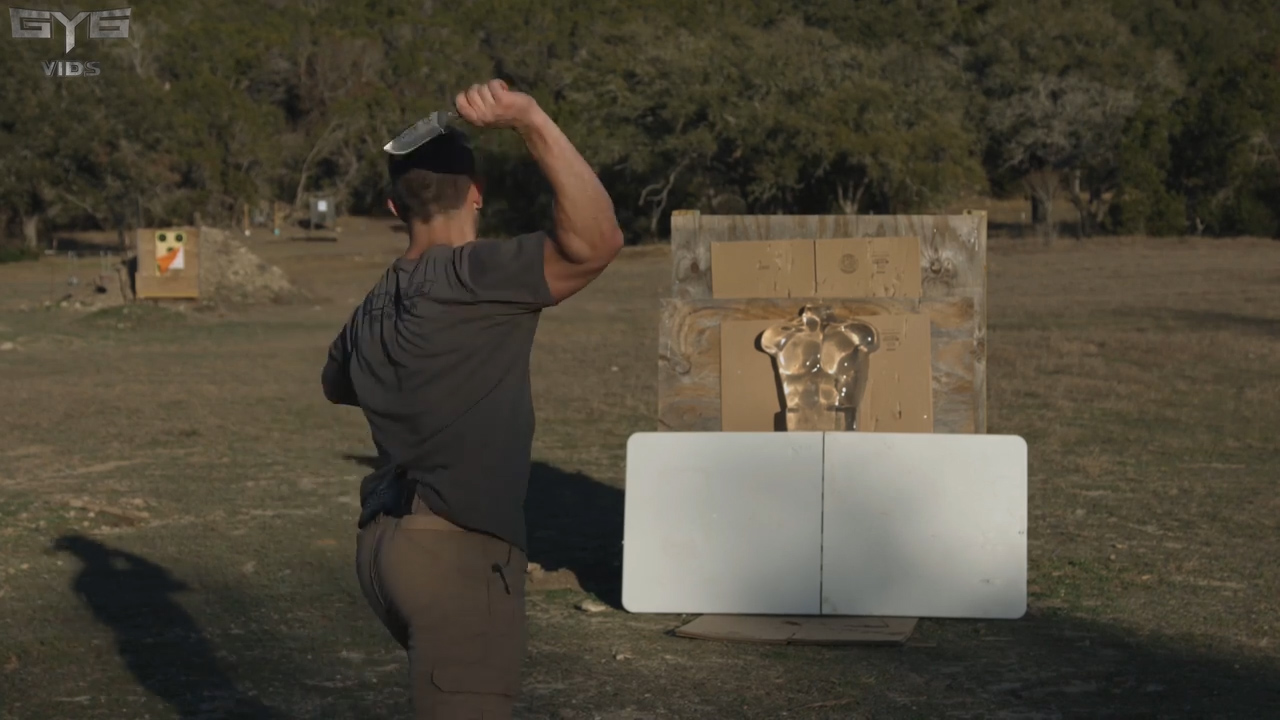knife: (372, 73, 512, 168)
